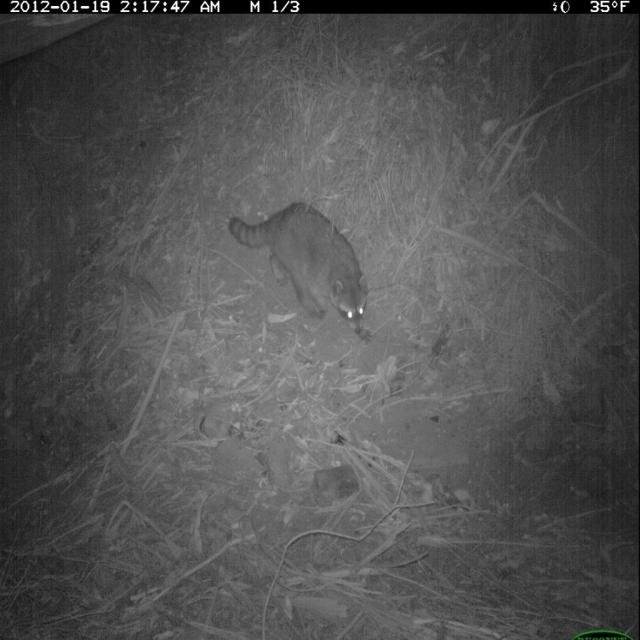raccoon: (224, 192, 373, 342)
